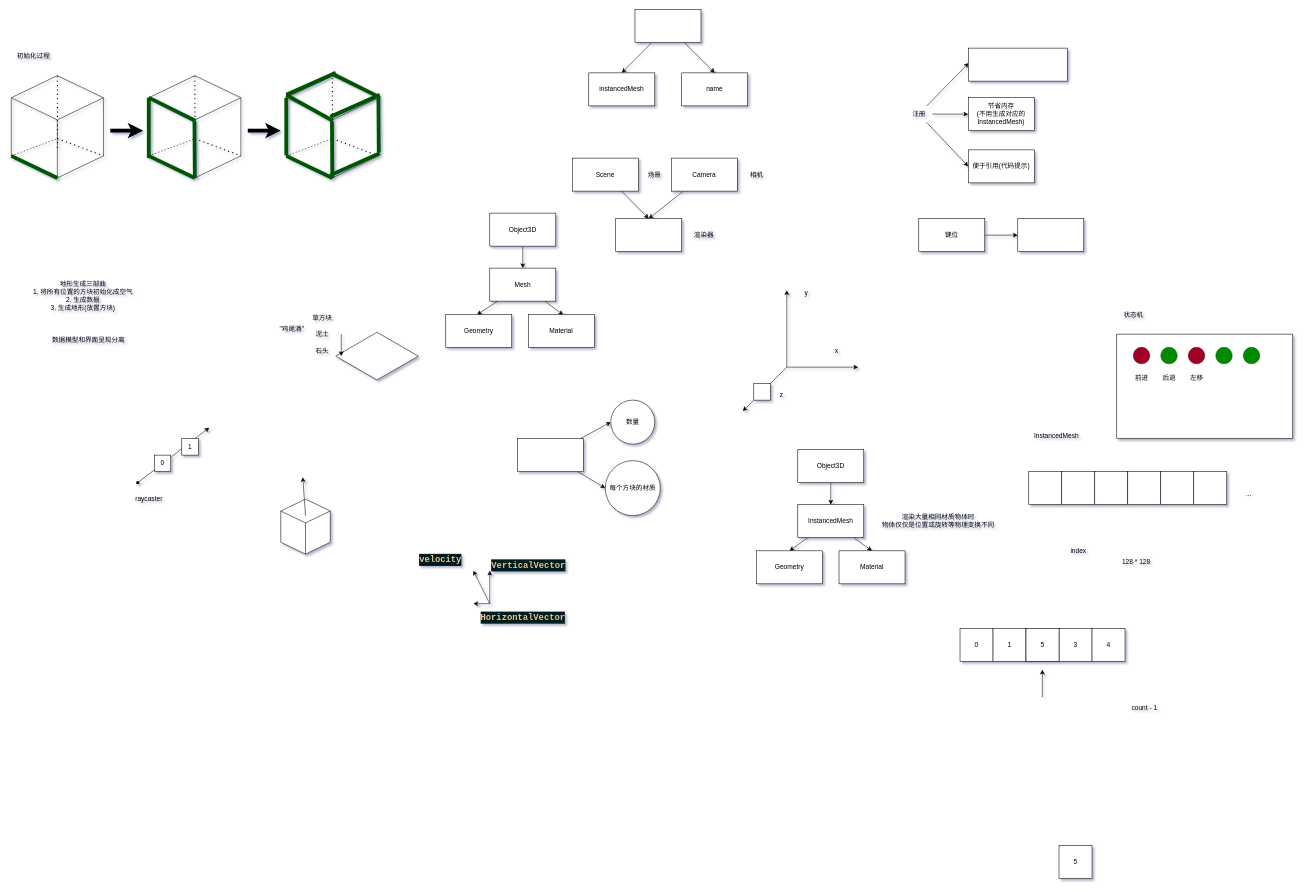
Some shapes in this 1306 by 892 pixel diagram are drawn without their labels. Here are the shapes that lost their labels. From the top down, the centre of each, then its label:
the point at 667,26: class Block
the point at 1017,64: 便于管理, 这个方块是否存在
the point at 648,235: Renderer
the point at 1050,235: 动作
the point at 550,455: 一片方块
